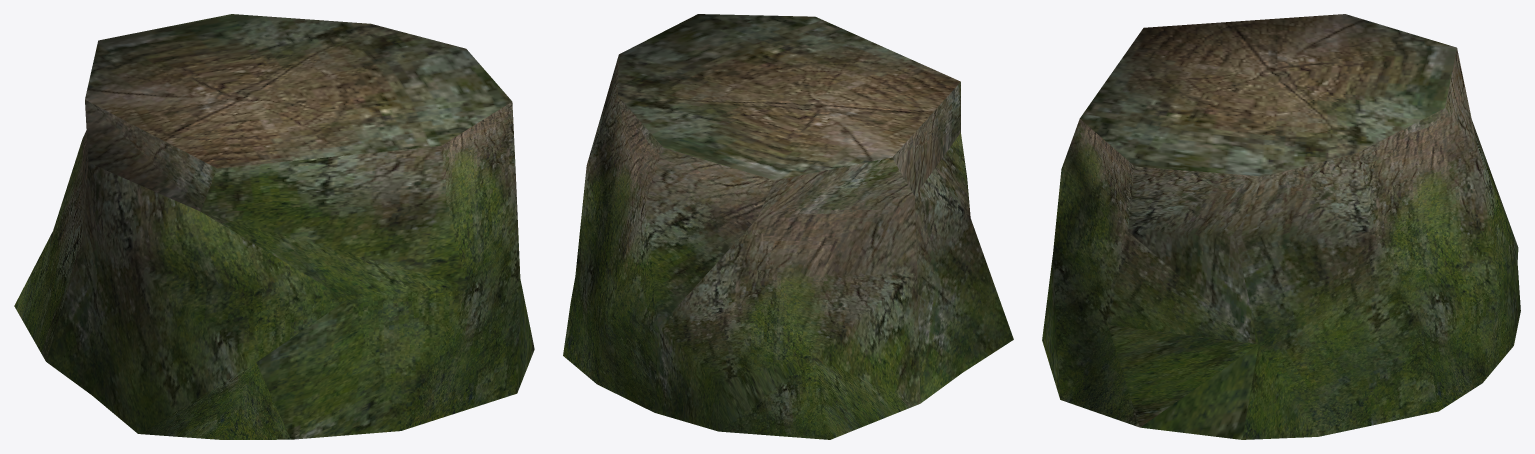
The model's file is Vegetation_Shugen0103_lod1.glb.
The picture shows the model from 3 angles, left to right: view 1: azimuth 30°, elevation 25°; view 2: azimuth 150°, elevation 25°; view 3: azimuth 270°, elevation 25°; orthographic projection. The views are drawn at different scales.
Parts seen in each view (by area): view 1: common_shugen01_03_lod01; view 2: common_shugen01_03_lod01; view 3: common_shugen01_03_lod01.
Boxes of the visible parts, <box> form: common_shugen01_03_lod01: <box>14,14,534,439</box>; common_shugen01_03_lod01: <box>563,14,1013,439</box>; common_shugen01_03_lod01: <box>1042,14,1520,439</box>.
Size of the model in its own units: 4.37 by 2.61 by 4.54.
Materials: 1 (1 with a texture image).
